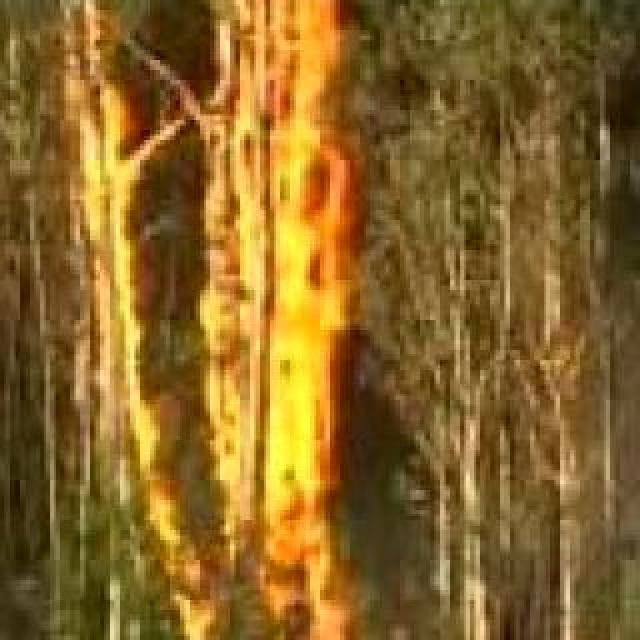fire: (74, 2, 384, 640)
